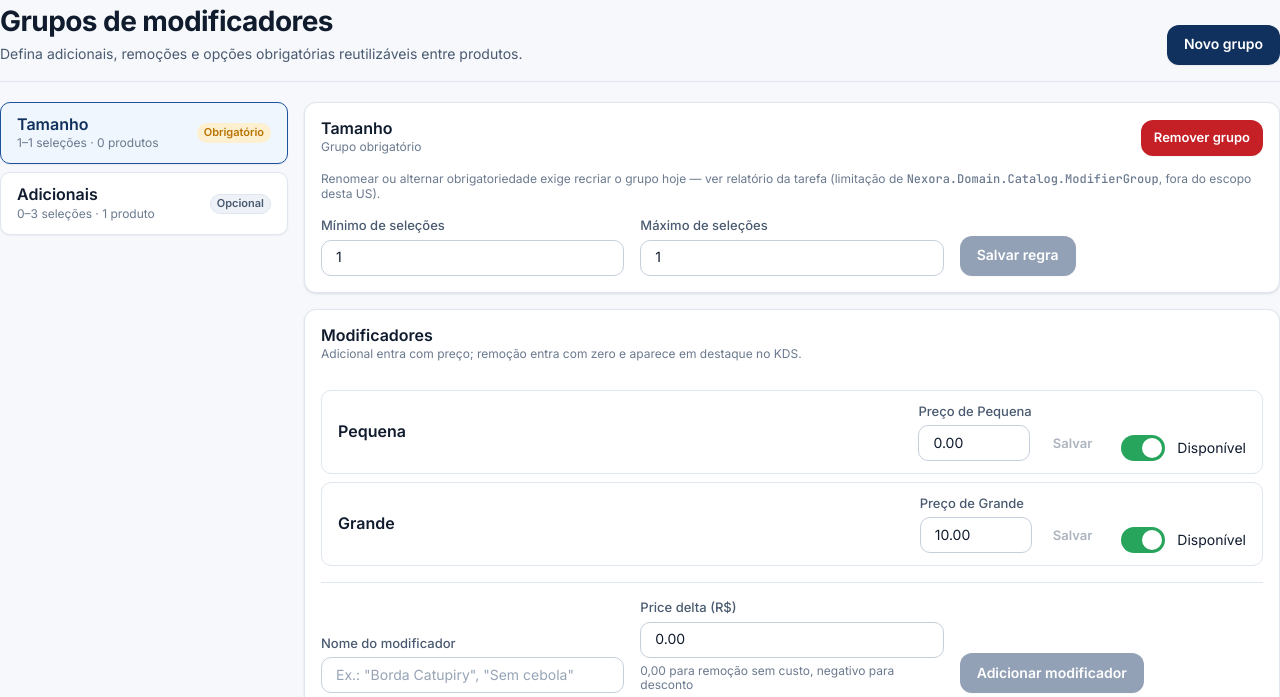
ModifierGroupManagementPage › bloqueia a quarta seleção do grupo "Adicionais" (máximo 3) e mantém as três primeiras (cenário Gherkin "Limite máximo de seleção")
Click the button "Adicionais 0–3 seleções · 1 produto Opcional".
click(144, 204)  # box [0,172,288,235]
(page scrolled)
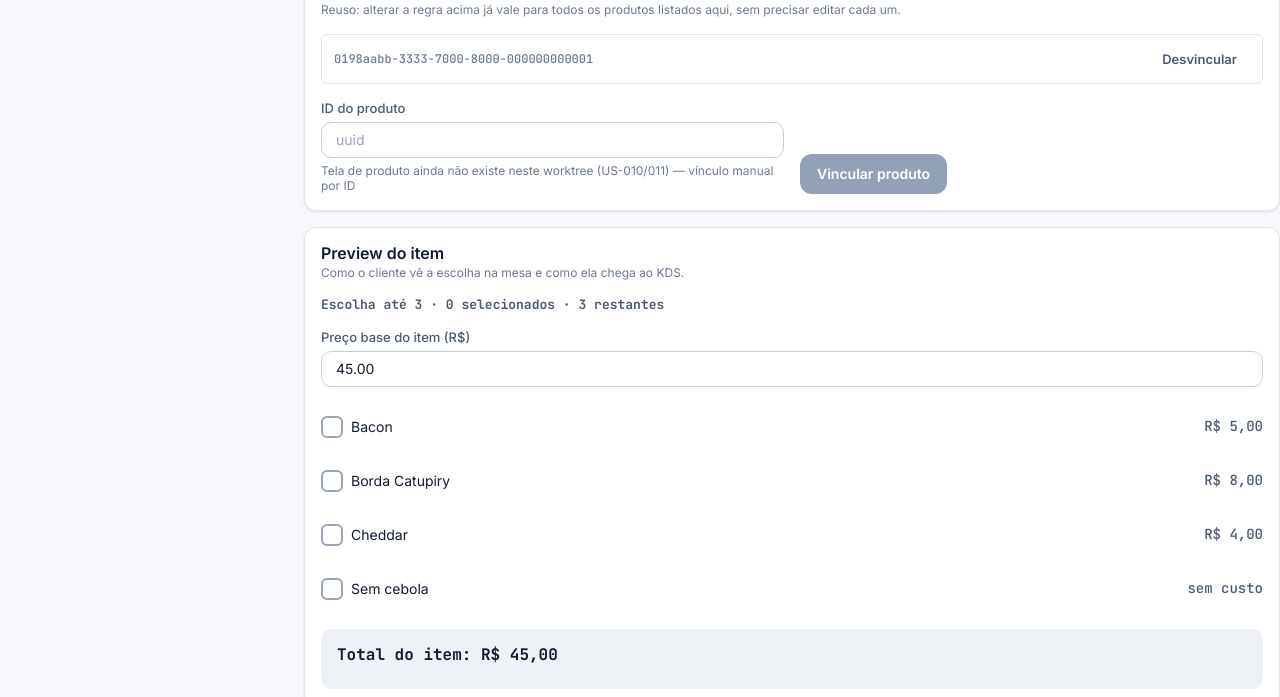
Click the checkbox labelled "Bacon R$ 5,00".
click(332, 427)  # box [321,416,343,438]
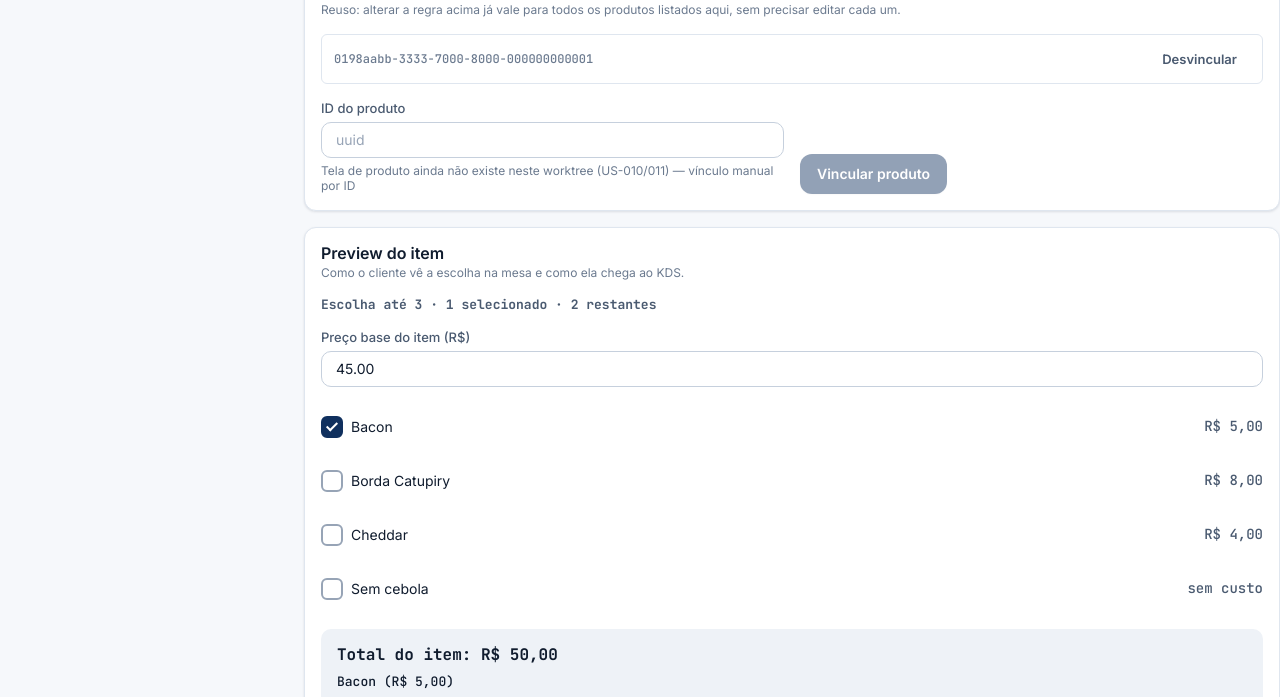
Click the checkbox labelled "Borda Catupiry R$ 8,00".
click(332, 481)  # box [321,470,343,492]
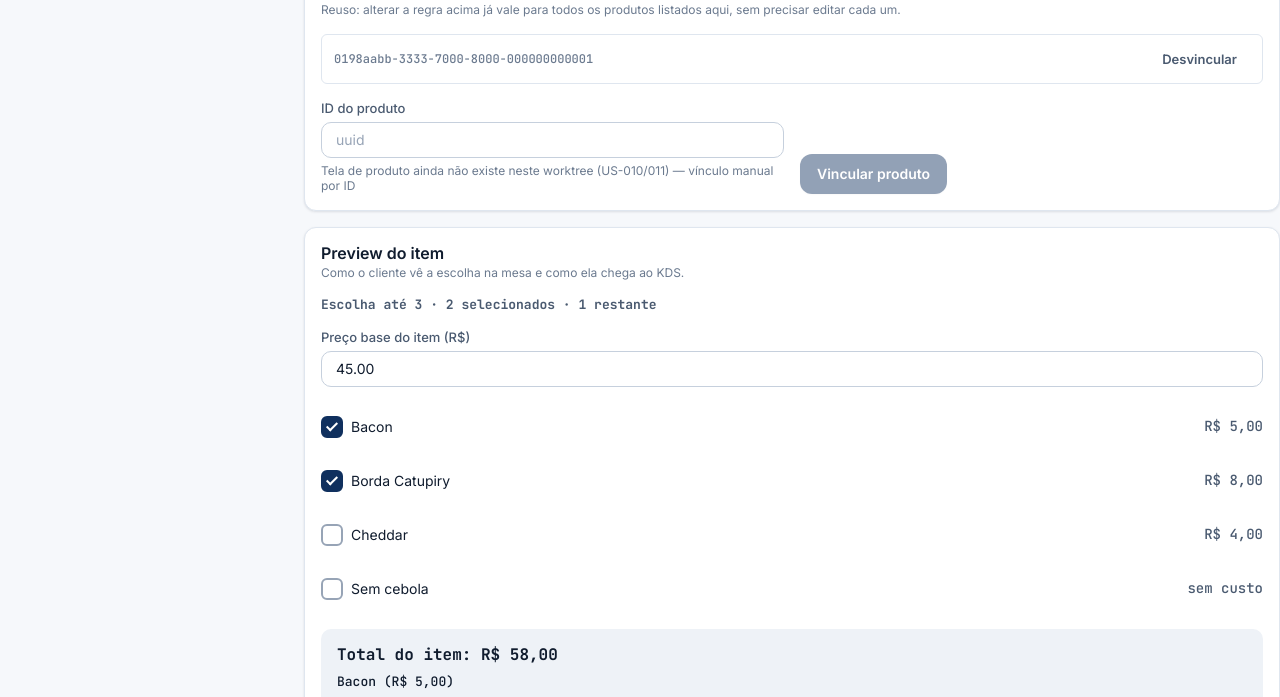
Click the checkbox labelled "Cheddar R$ 4,00".
click(332, 535)  # box [321,524,343,546]
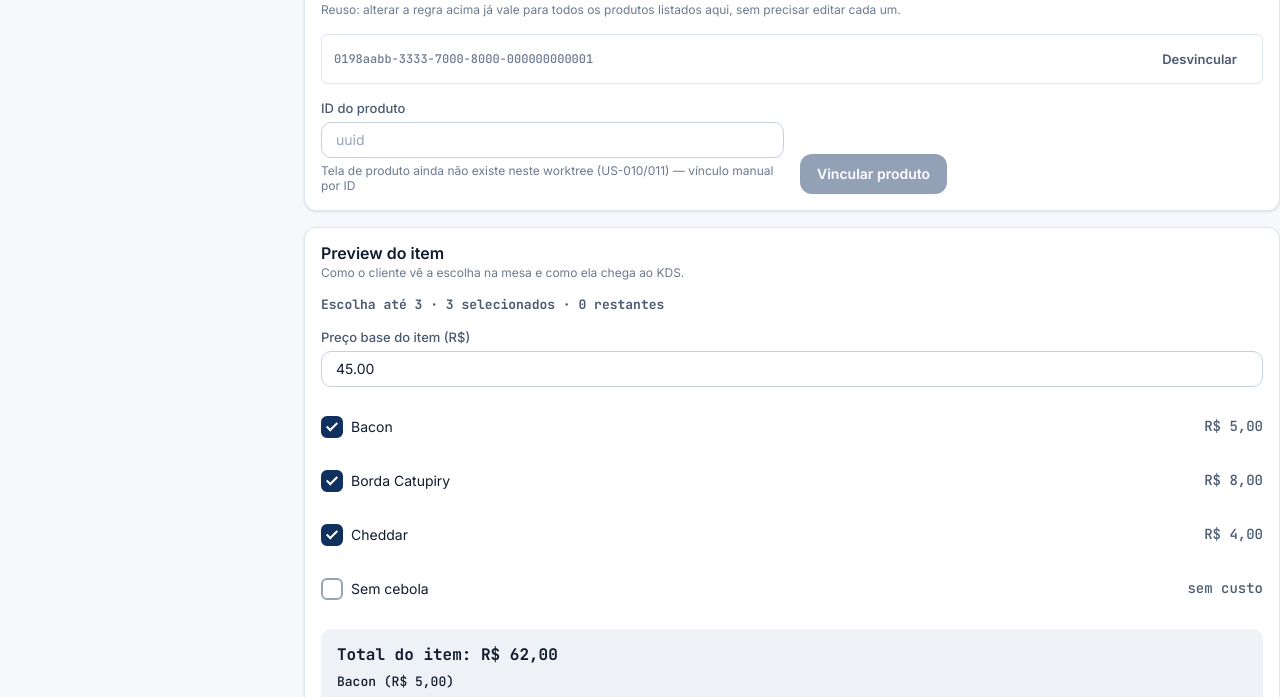
Click the checkbox labelled "Sem cebola sem custo".
click(332, 589)  # box [321,578,343,600]
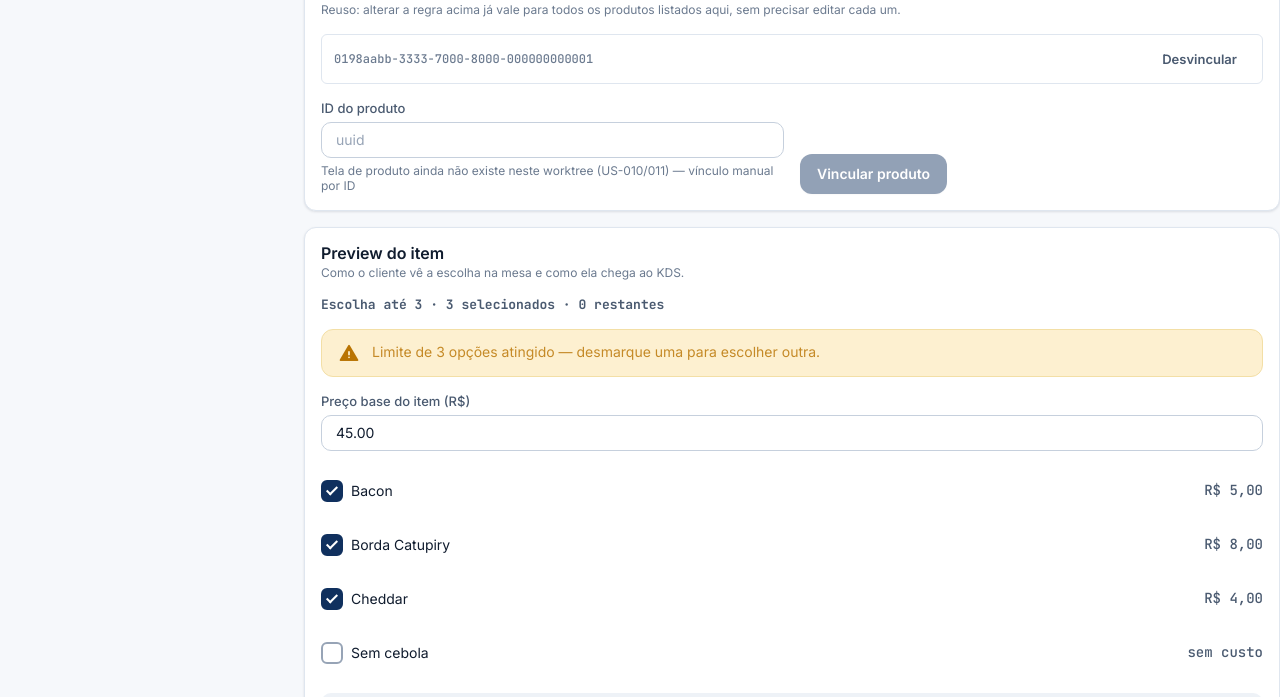
Expected: the checkbox labelled "Bacon R$ 5,00" is checked, [321,480,343,502]
Expected: the checkbox labelled "Borda Catupiry R$ 8,00" is checked, [321,534,343,556]
Expected: the text "Limite de 3 opções atingido" is shown, [372,343,820,360]
